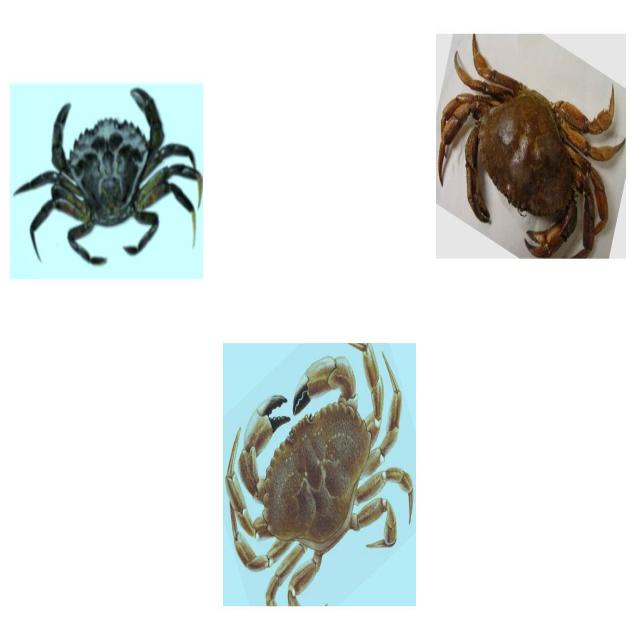egc: (8, 82, 202, 280)
jonah_crab: (223, 343, 416, 613)
rock_crab: (436, 34, 627, 256)
